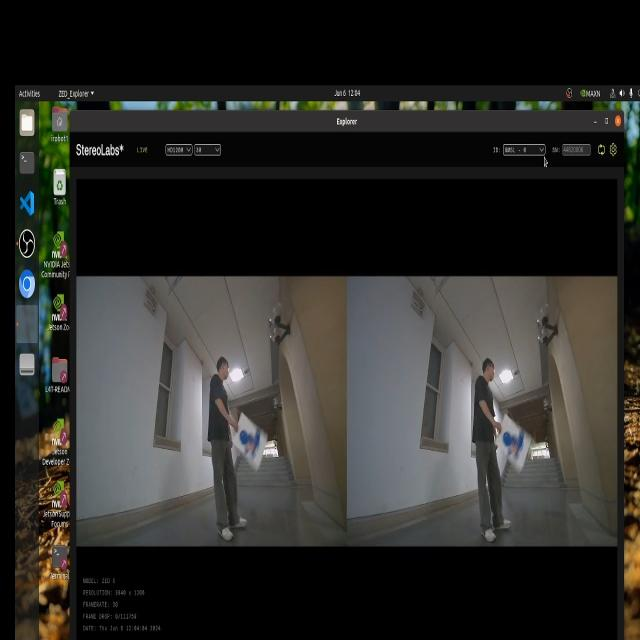blue: (501, 410, 537, 470), (228, 422, 268, 455)
